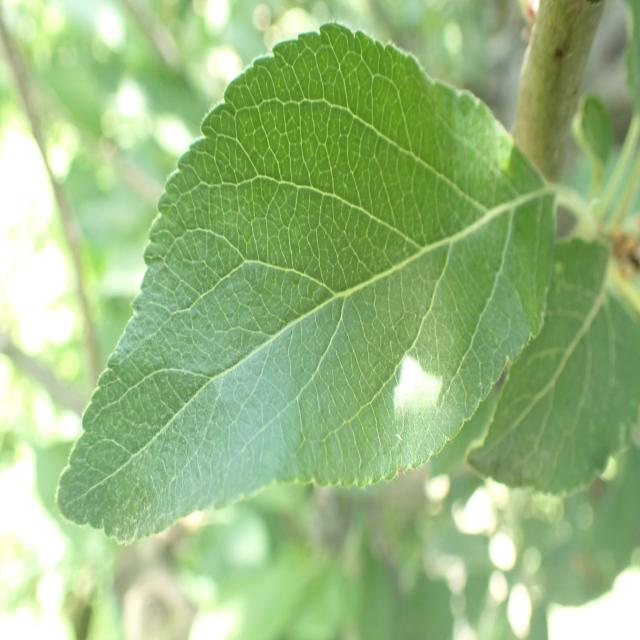healthy: (57, 21, 556, 548), (463, 237, 640, 497)
